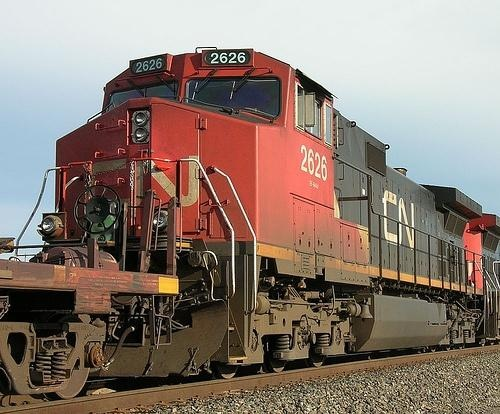train: (6, 51, 498, 400)
